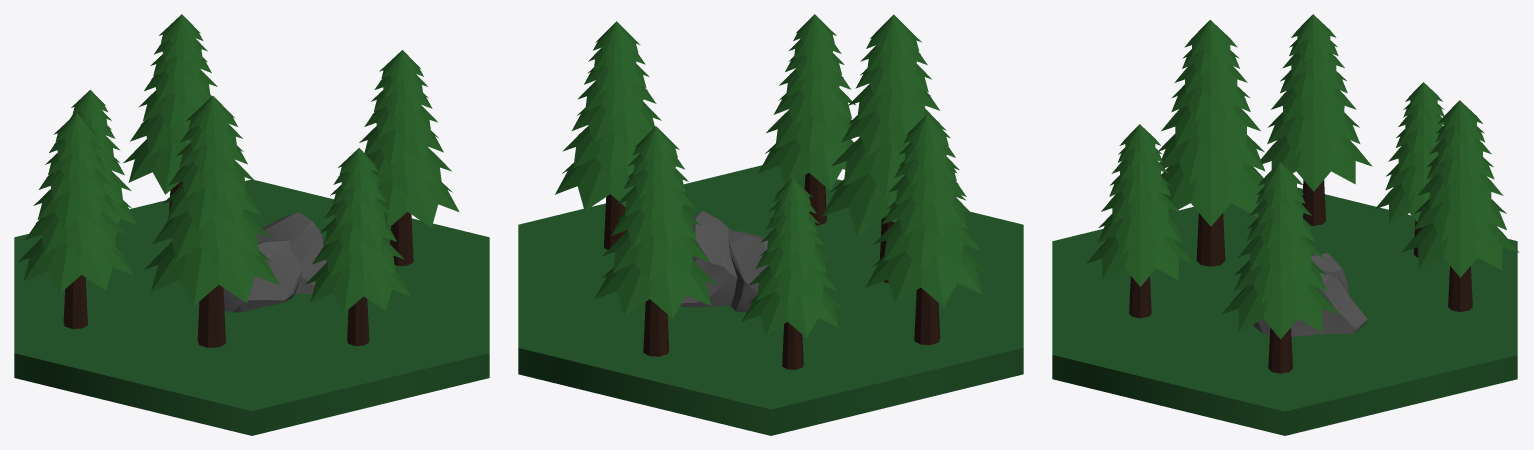
Rendered from Tile_1.FBX.
3 views of the same model, side by side, from view 1: azimuth 30°, elevation 25°; view 2: azimuth 150°, elevation 25°; view 3: azimuth 270°, elevation 25° (orthographic). The views are drawn at different scales.
Parts seen in each view (by area): view 1: Ground; view 2: Ground; view 3: Ground.
Boxes of the visible parts, left/top/right/bottom form: Ground: left=14, top=14, right=489, bottom=435; Ground: left=518, top=14, right=1023, bottom=435; Ground: left=1052, top=14, right=1519, bottom=435.
Size of the model in its own units: 39.37 by 23.24 by 34.23.
